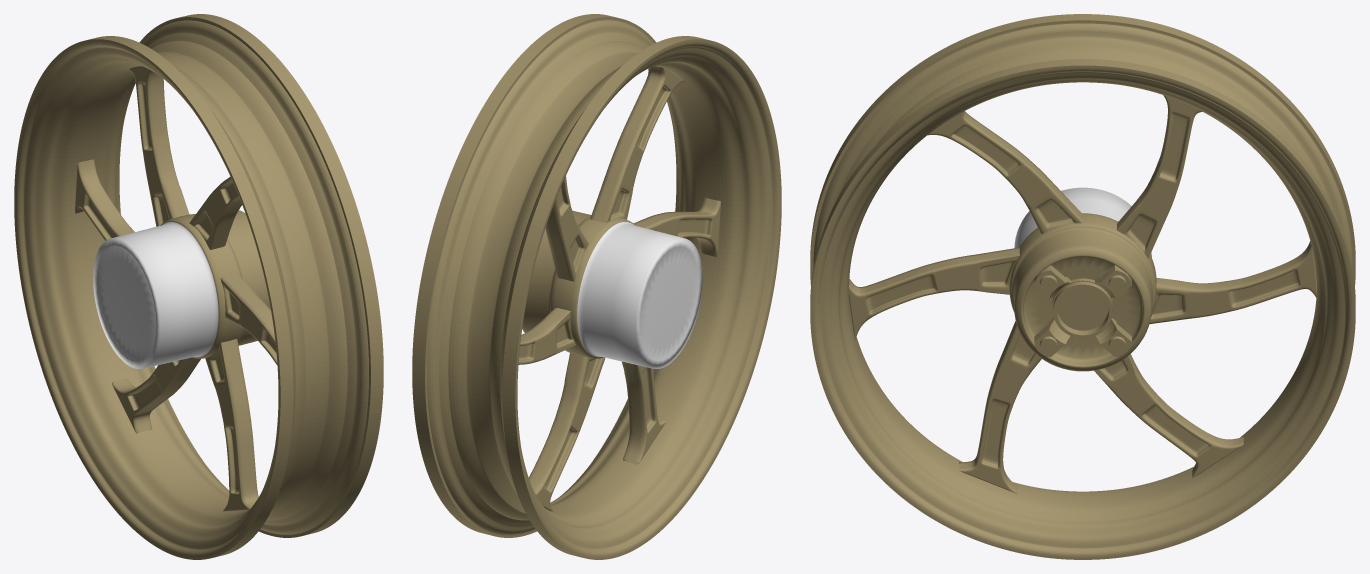
Rendered from y15zr-rim-stock-rear.glb.
The picture shows the model from 3 angles, left to right: view 1: azimuth 30°, elevation 25°; view 2: azimuth 150°, elevation 25°; view 3: azimuth 270°, elevation 25°; orthographic projection. The views are drawn at different scales.
Parts seen in each view (by area): view 1: RIM_REAR_STOCK; view 2: RIM_REAR_STOCK; view 3: RIM_REAR_STOCK.
Boxes of the visible parts, x1=… form: RIM_REAR_STOCK: x1=14, y1=14, x2=383, y2=559; RIM_REAR_STOCK: x1=412, y1=14, x2=781, y2=559; RIM_REAR_STOCK: x1=810, y1=14, x2=1355, y2=559.
Size of the model in its own units: 0.3654 by 1.28 by 1.28.
